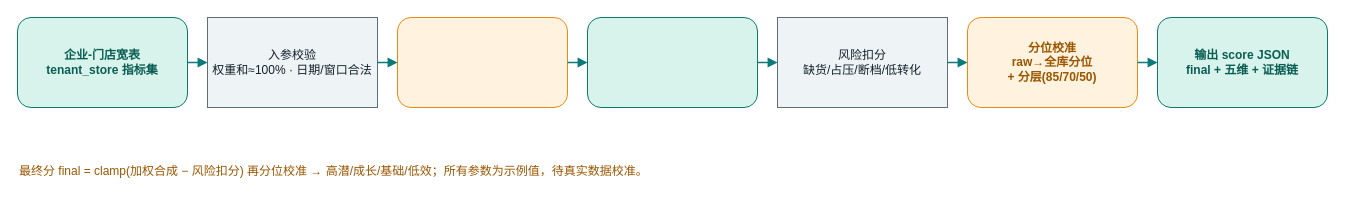
Image size: 1355x215. Some labels were removed from this diagram. The centre of each missing label's shape, as x and y in pixels:
"加权合成 raw = Σ(维度×权重)" goes at point 672,62.
"维度评分 5维 × 24指标 → 0-100 引用 K1/K2 Knowhow" goes at point 482,62.
